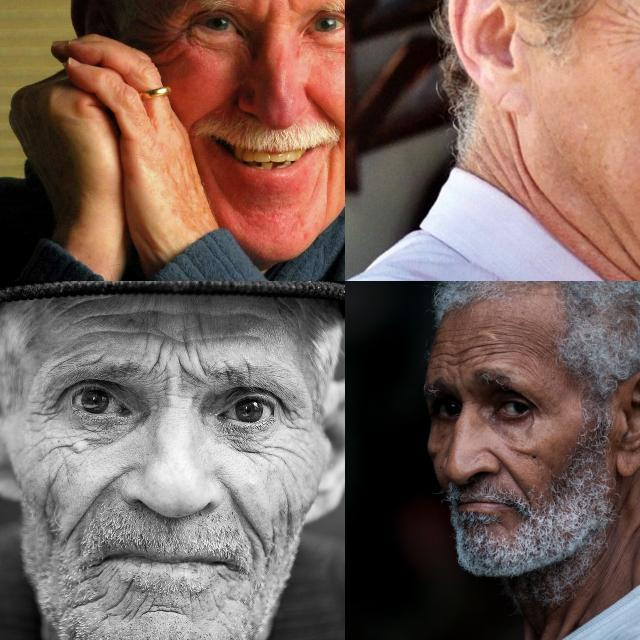chin: (108, 578, 152, 630), (65, 570, 107, 610), (156, 597, 190, 623)
crows_feet: (32, 382, 62, 428), (280, 402, 310, 446), (157, 17, 186, 61), (621, 11, 640, 55)
forehead: (66, 302, 134, 342), (492, 334, 542, 364), (206, 323, 256, 349), (442, 335, 482, 363)
frown_line: (152, 333, 198, 399), (279, 0, 299, 15)
gummy_smile: (72, 464, 118, 530), (222, 478, 260, 534), (490, 451, 526, 494), (308, 88, 344, 125), (194, 90, 224, 128)
masseter: (34, 466, 58, 526), (279, 482, 301, 536)
sad_smile: (321, 155, 339, 209)
